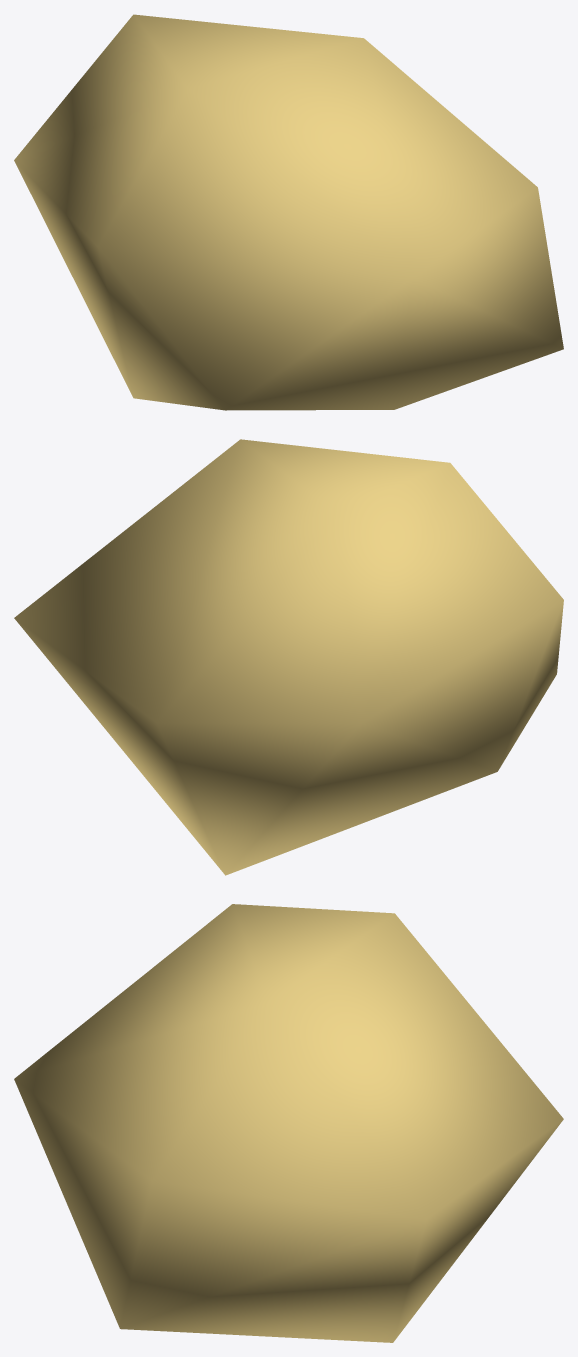
Rendered from rottenGoo.glb.
3 views of the same model, one above another, from view 1: azimuth 30°, elevation 25°; view 2: azimuth 150°, elevation 25°; view 3: azimuth 270°, elevation 25° (orthographic). The views are drawn at different scales.
Parts seen in each view (by area): view 1: rottenGoo; view 2: rottenGoo; view 3: rottenGoo.
Part boxes in pixels (bbox=[...]): rottenGoo: bbox=[14, 14, 563, 410]; rottenGoo: bbox=[14, 439, 563, 875]; rottenGoo: bbox=[14, 904, 563, 1342].
Size of the model in its own units: 0.2058 by 0.1762 by 0.2328.
